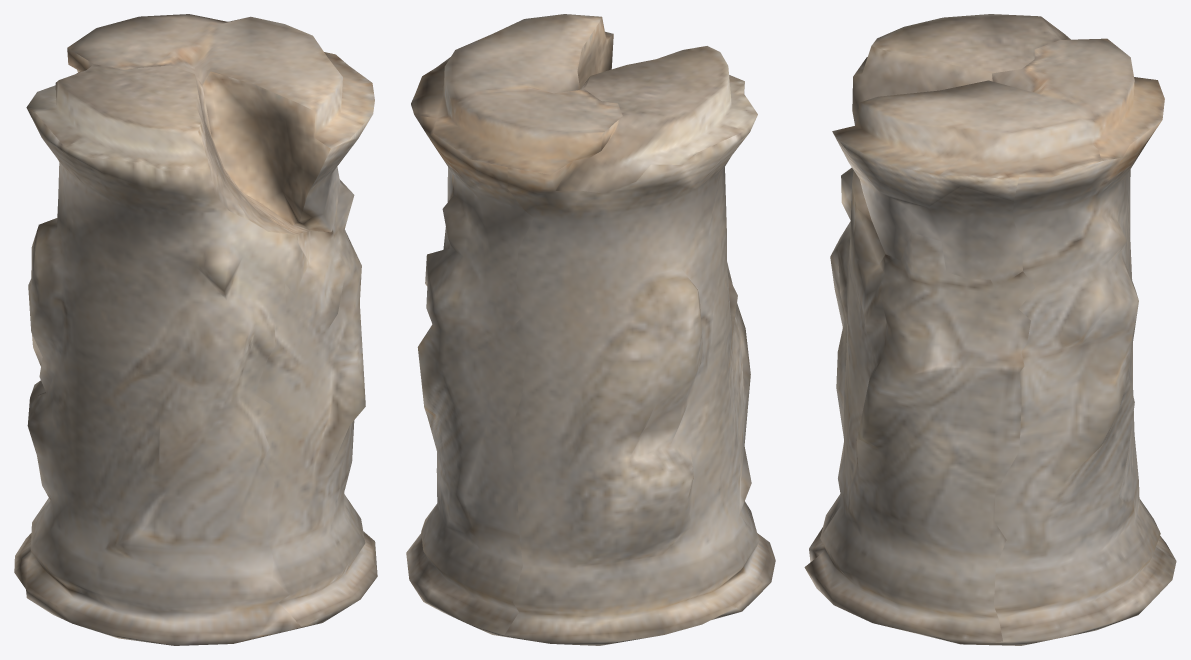
The model's file is Q_Plinthe.fbx.
3 renders of one model, left to right at view 1: azimuth 30°, elevation 25°; view 2: azimuth 150°, elevation 25°; view 3: azimuth 270°, elevation 25°, orthographic.
Visible parts, largest first — view 1: Aset_stone_carved_M_tfyhdeyfa_LOD5; view 2: Aset_stone_carved_M_tfyhdeyfa_LOD5; view 3: Aset_stone_carved_M_tfyhdeyfa_LOD5.
Part boxes in pixels (x1,y1,x2,y2): Aset_stone_carved_M_tfyhdeyfa_LOD5: [14, 14, 377, 645]; Aset_stone_carved_M_tfyhdeyfa_LOD5: [406, 14, 775, 645]; Aset_stone_carved_M_tfyhdeyfa_LOD5: [804, 14, 1176, 645].
Size of the model in its own units: 26.38 by 39.29 by 26.48.
